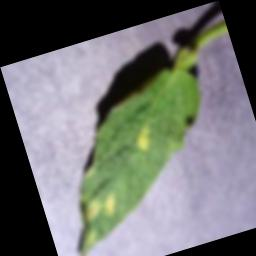Leaf_Mold: (80, 197, 106, 223), (133, 123, 154, 152), (101, 188, 121, 216)
